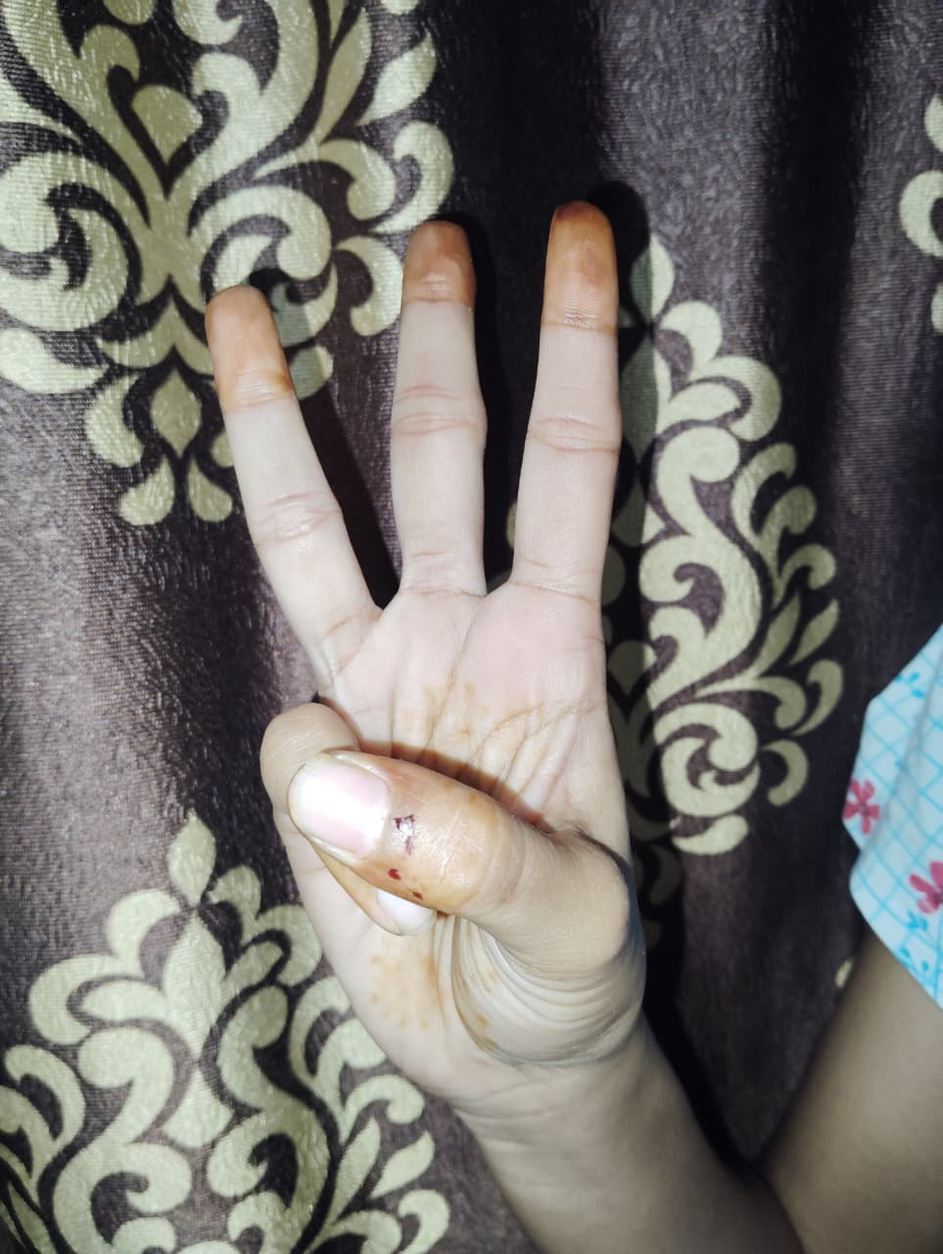W: (209, 203, 645, 1028)
